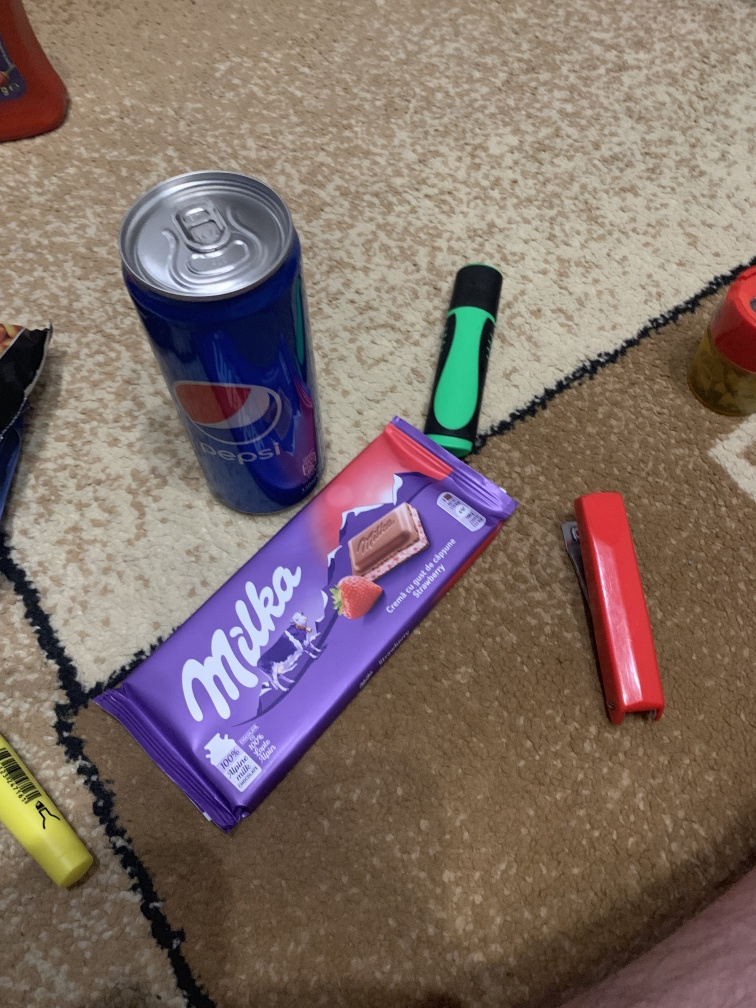milka: (90, 416, 535, 848)
pepsi: (116, 165, 339, 519)
